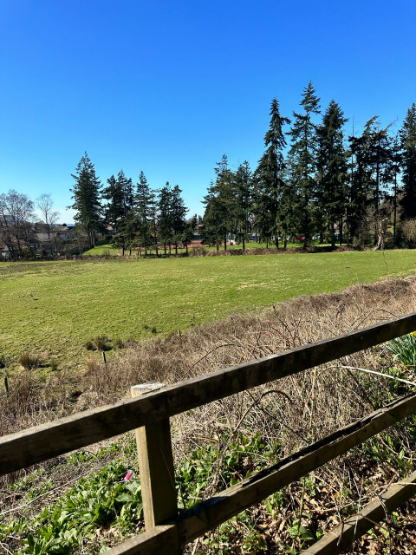tree: (287, 60, 327, 256), (318, 88, 358, 248), (249, 81, 285, 251), (360, 105, 398, 237), (63, 145, 104, 244), (201, 157, 241, 244), (162, 169, 196, 245), (128, 169, 157, 248)
